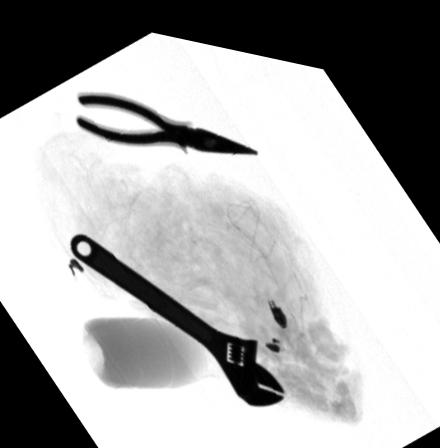Pliers: (76, 85, 259, 146)
Wrench: (68, 228, 285, 397)
